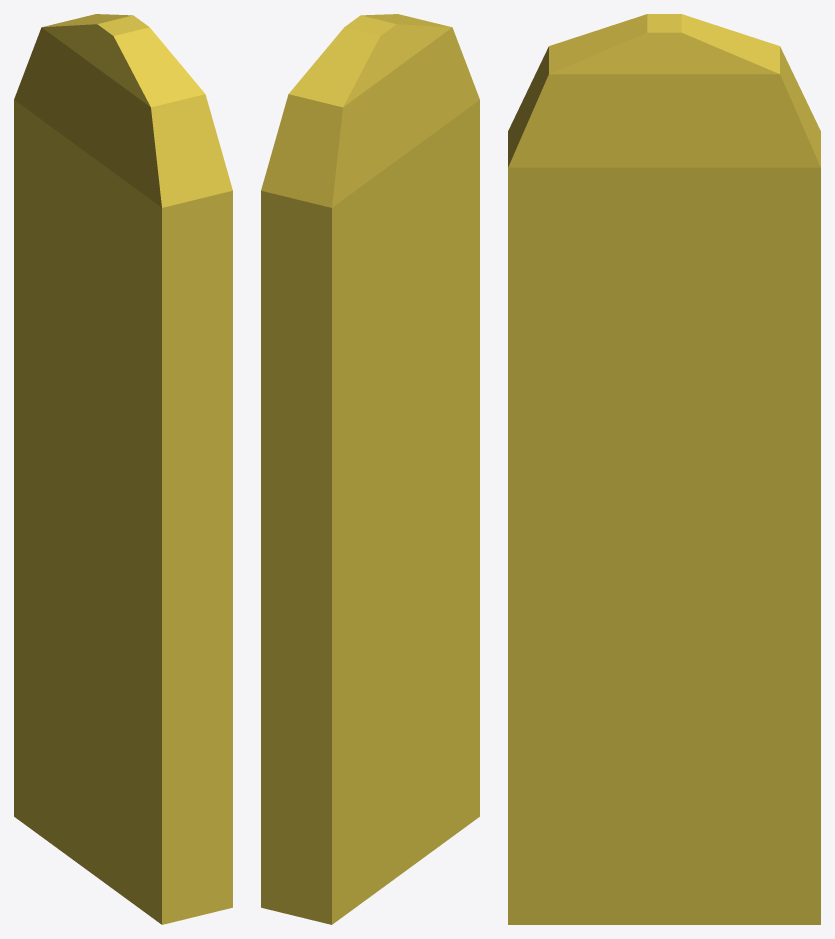
File: moroheno.fbx
The picture shows the model from 3 angles, left to right: view 1: azimuth 30°, elevation 25°; view 2: azimuth 150°, elevation 25°; view 3: azimuth 270°, elevation 25°; orthographic projection. The views are drawn at different scales.
Visible parts, largest first — view 1: Куб; view 2: Куб; view 3: Куб.
Part boxes in pixels (<box>): Куб: <box>14,14,232,924</box>; Куб: <box>261,14,479,924</box>; Куб: <box>508,14,820,924</box>.
Bounding box in the file's own units: 49 × 552 × 177.
